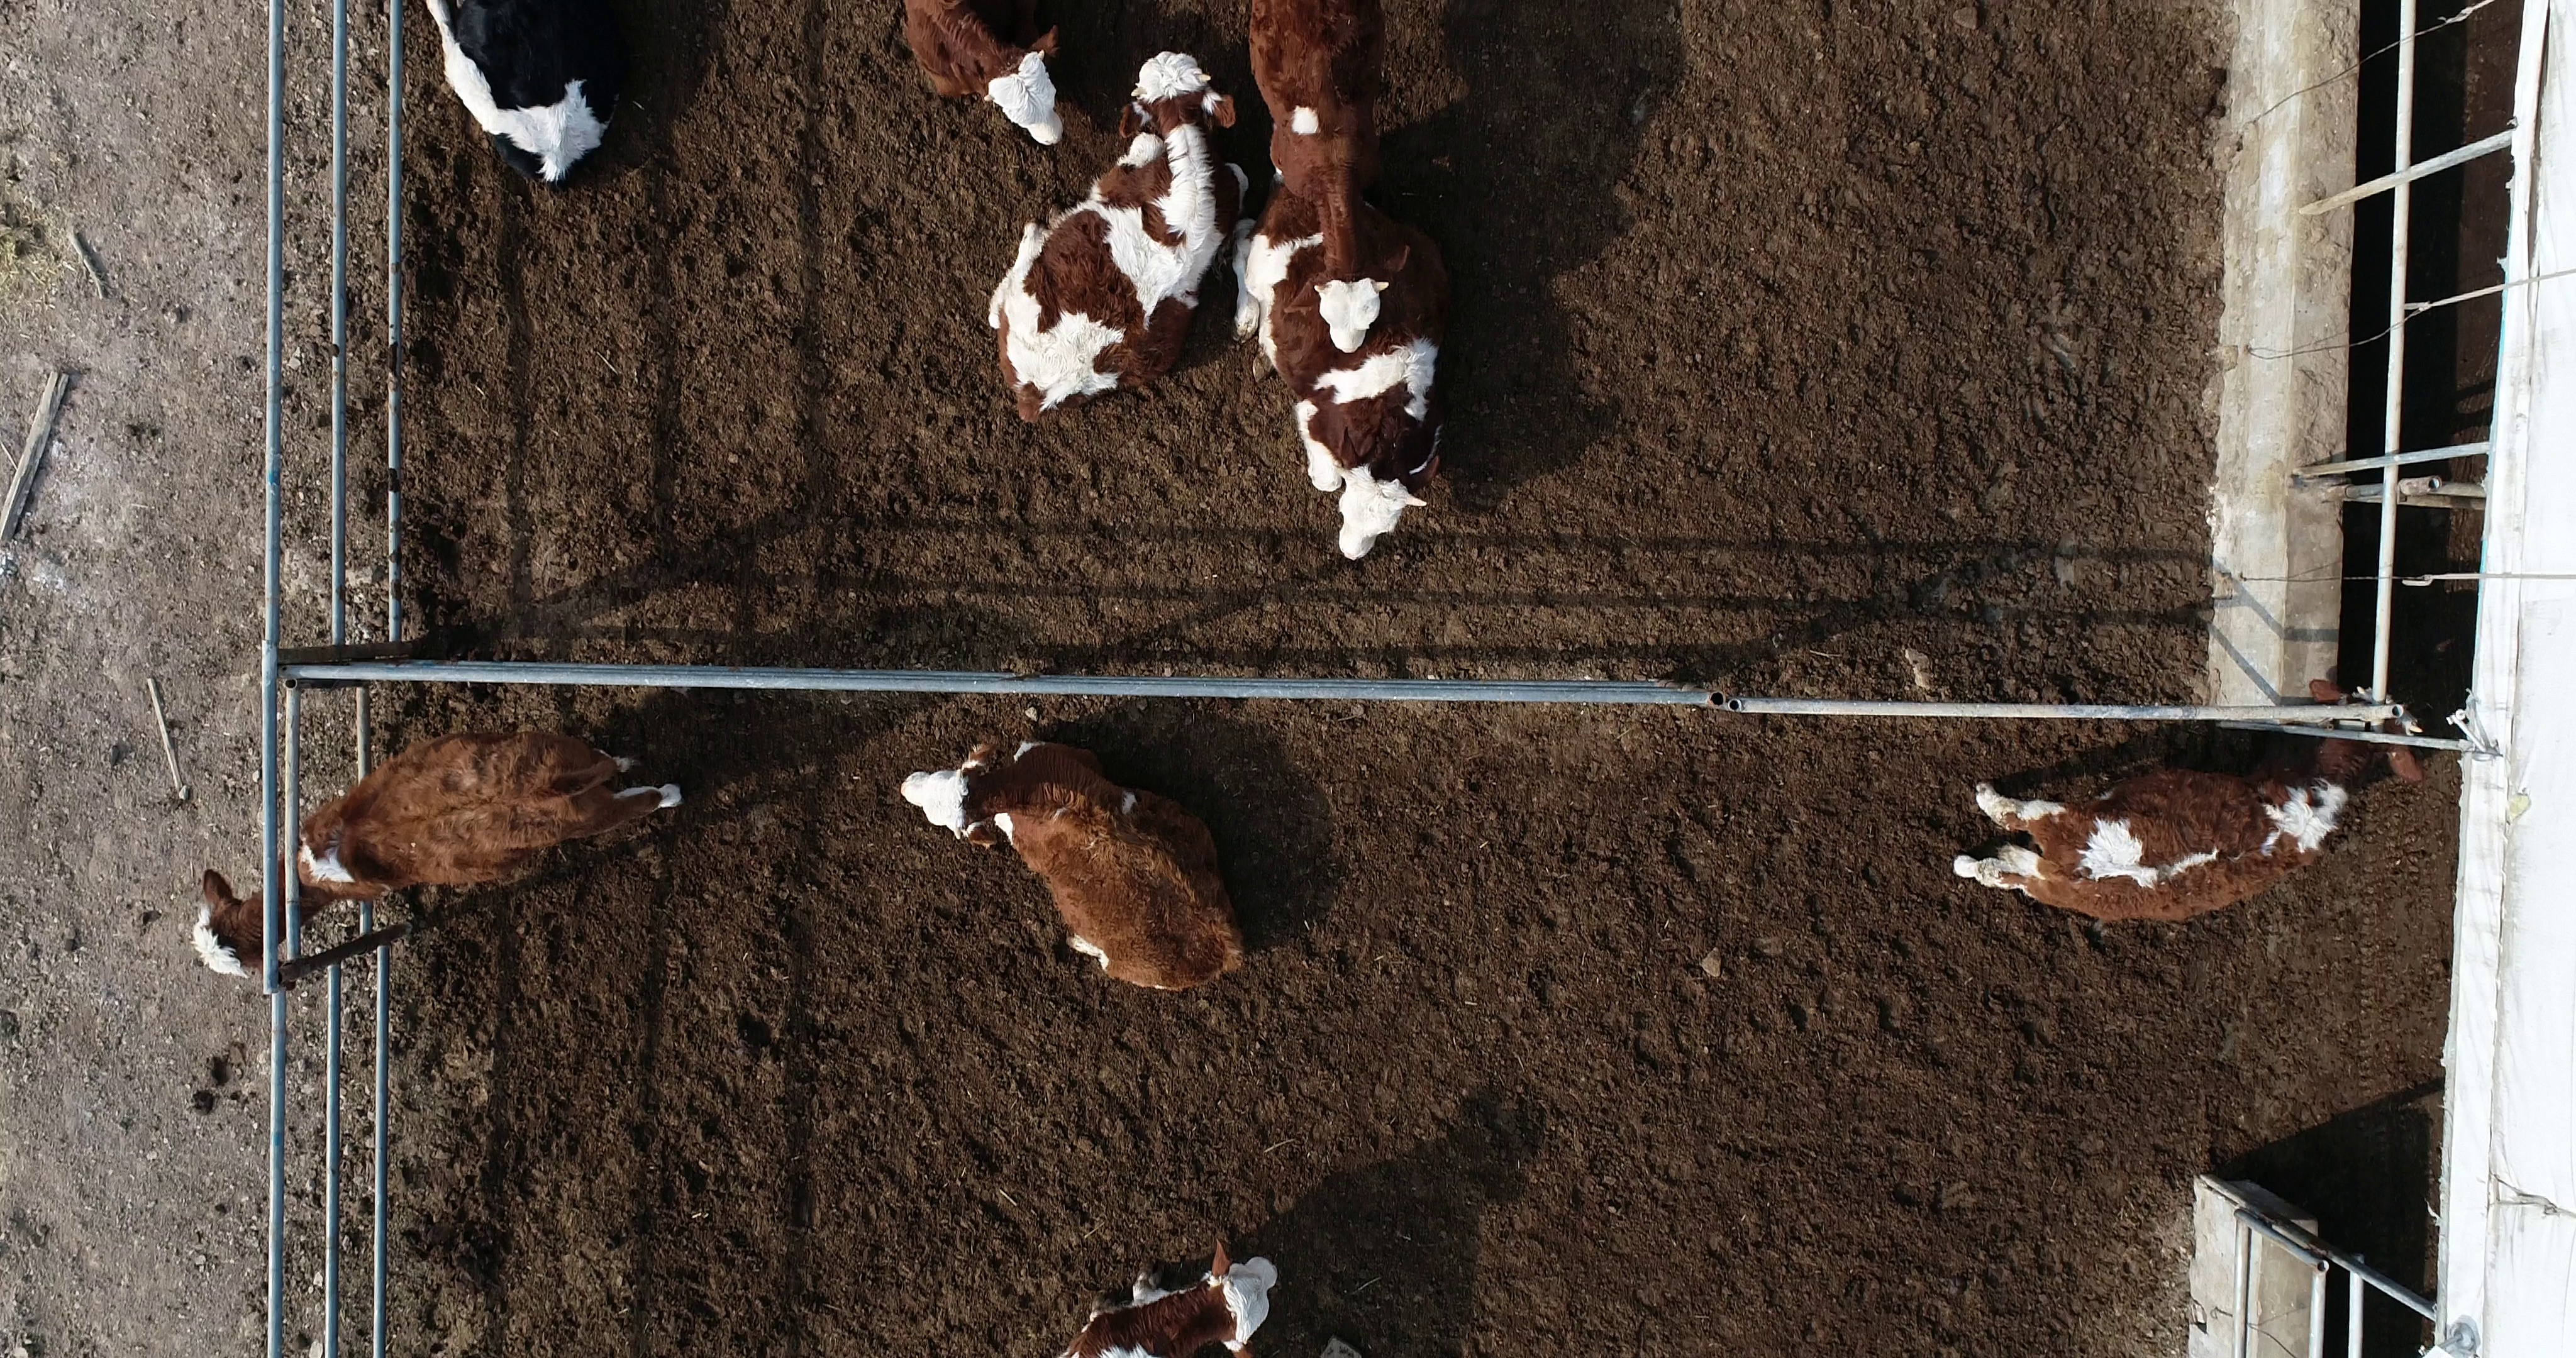cattle: (980, 46, 1254, 433)
